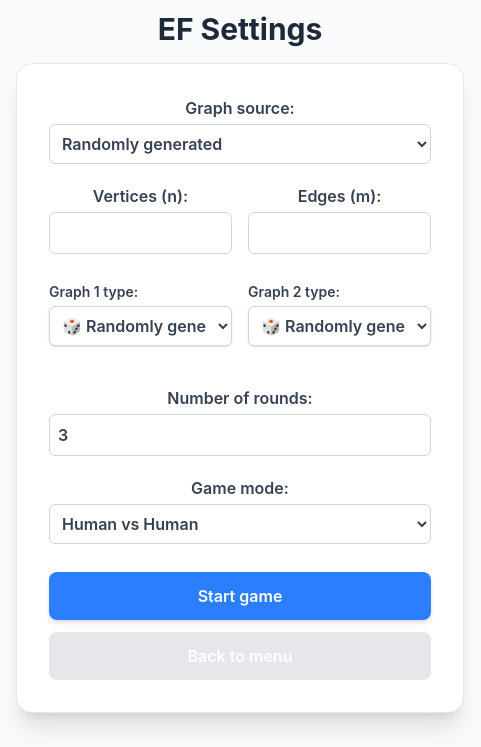
EFMenu View › hides V and E and shows file input
Select "Uploaded from file" in the dropdown labelled "Graph source:". click: coordinates (240, 144)
box: top-left (49, 124), bottom-right (431, 164)
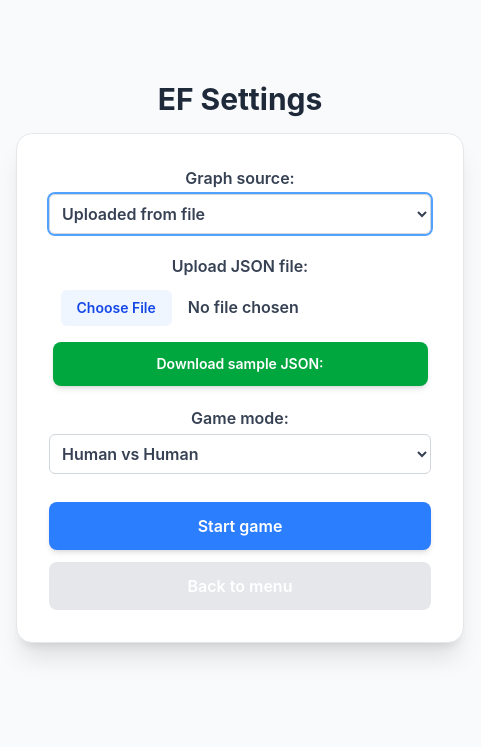
Expected: the file field labelled "Upload JSON file:" is shown, top-left (52, 282), bottom-right (428, 334)
Expected: the label labelled "Vertices (n):" is gone
